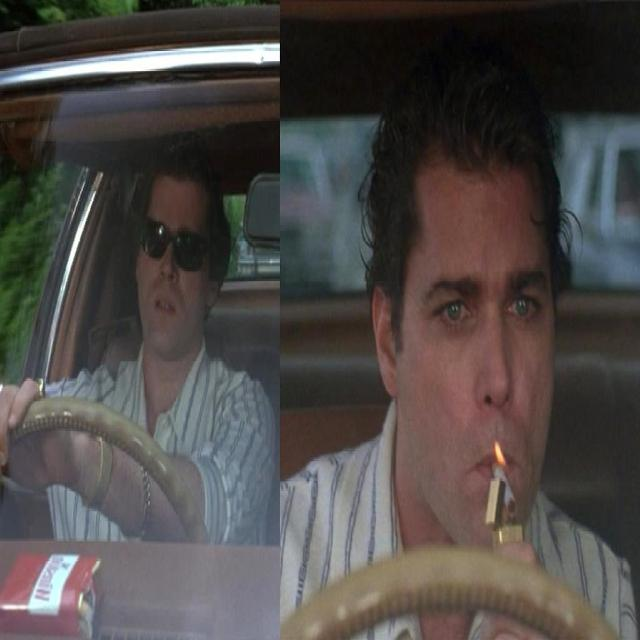smoking: (373, 49, 566, 552)
